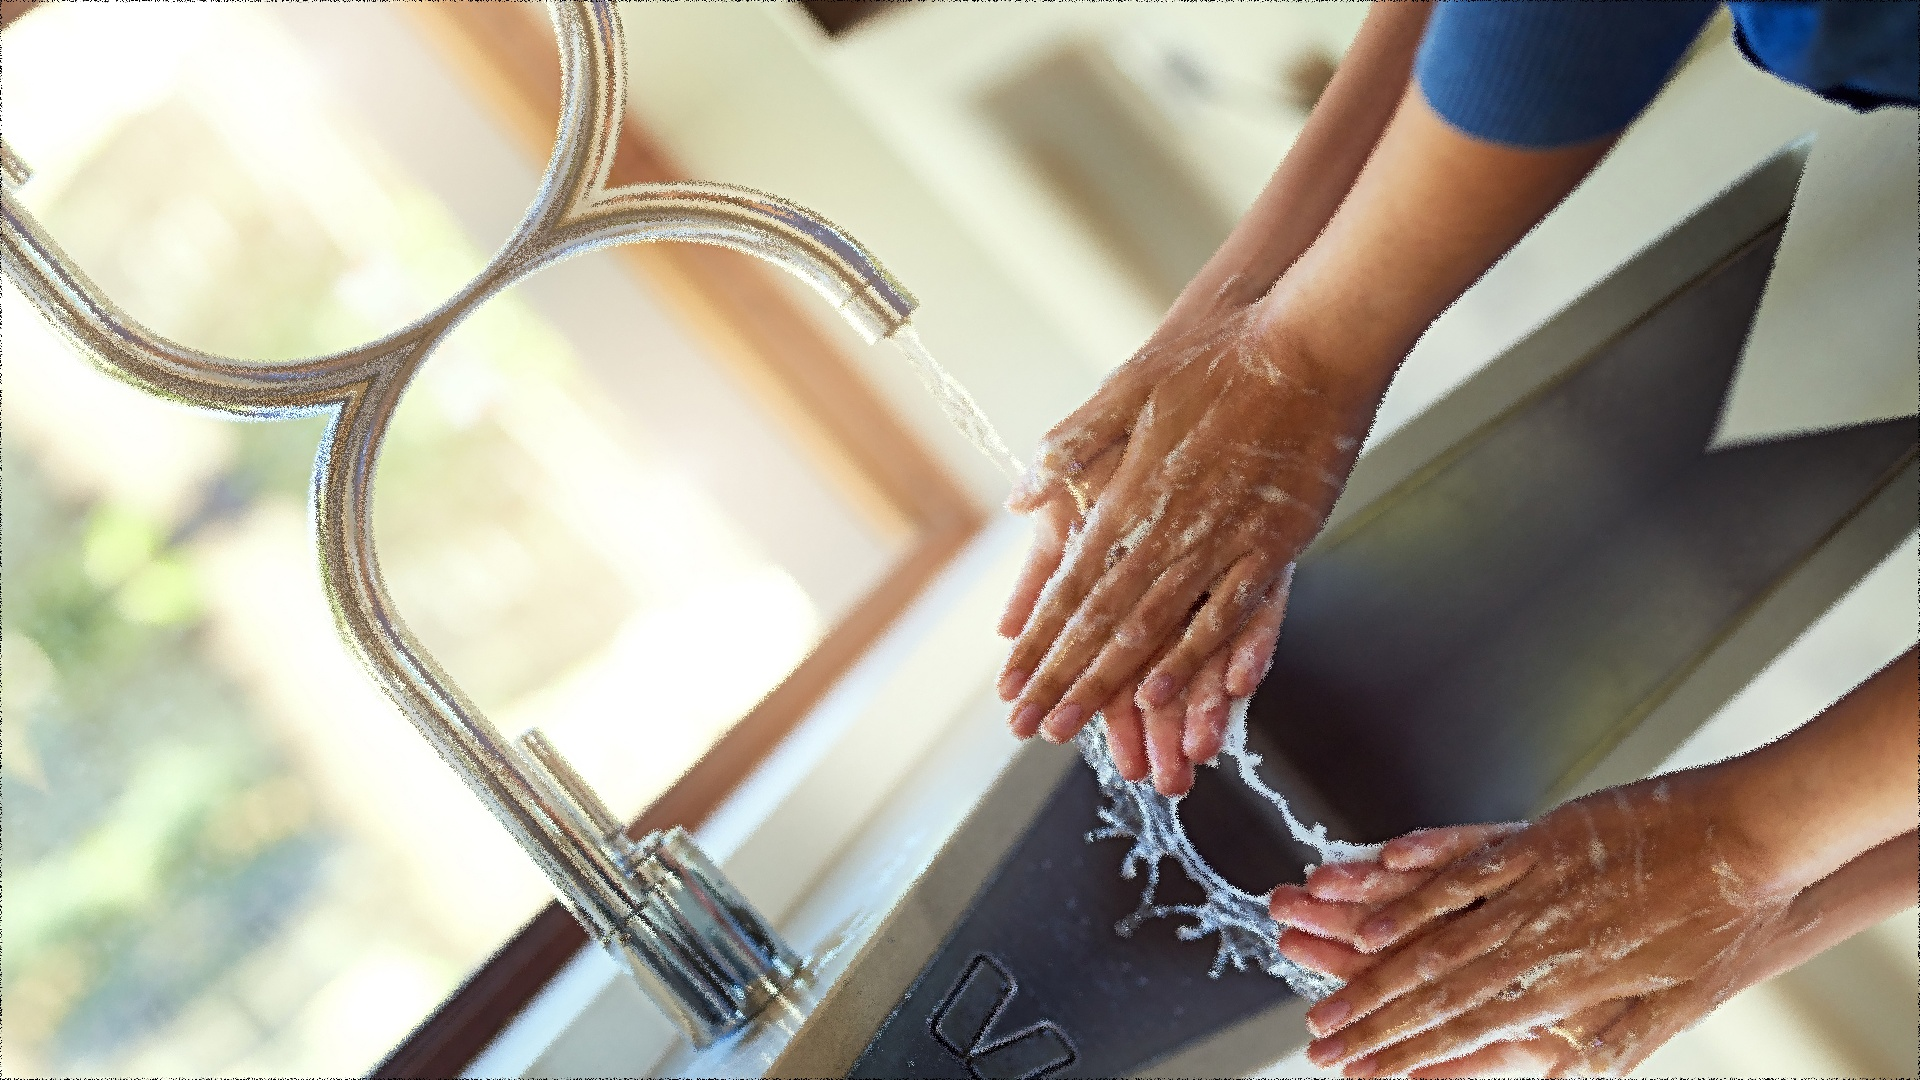washing hand: (342, 0, 1519, 1076)
